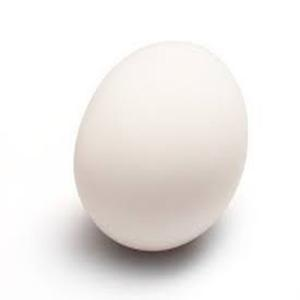Egg: (70, 37, 253, 256)
